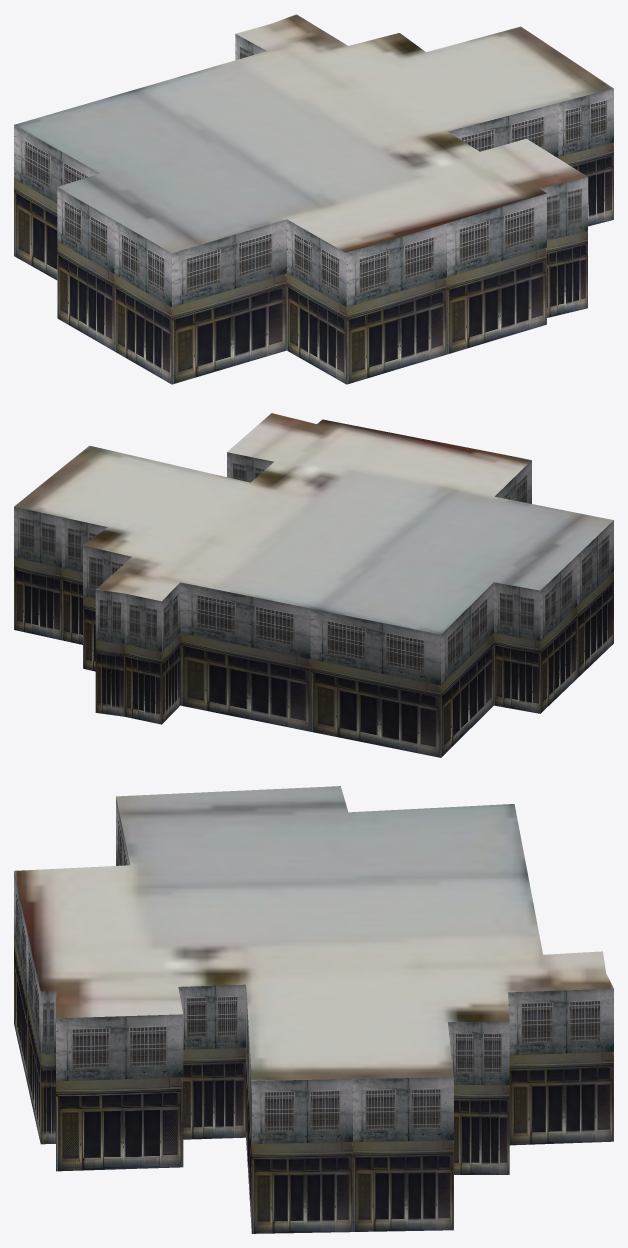
Rendered from T_1T91A4PCNH.dae.
3 views of the same model, one above another, from view 1: azimuth 30°, elevation 25°; view 2: azimuth 150°, elevation 25°; view 3: azimuth 270°, elevation 25° (orthographic). The views are drawn at different scales.
Visible parts, largest first — view 1: SketchUp (×16); view 2: SketchUp (×23); view 3: SketchUp (×15).
Part boxes in pixels (left/top/right/bottom): SketchUp (×16): left=14, top=14, right=613, bottom=384; SketchUp (×23): left=14, top=413, right=613, bottom=757; SketchUp (×15): left=14, top=786, right=613, bottom=1233.
Size of the model in its own units: 23.18 by 19.94 by 5.61.
Materials: 3 (3 with a texture image).
